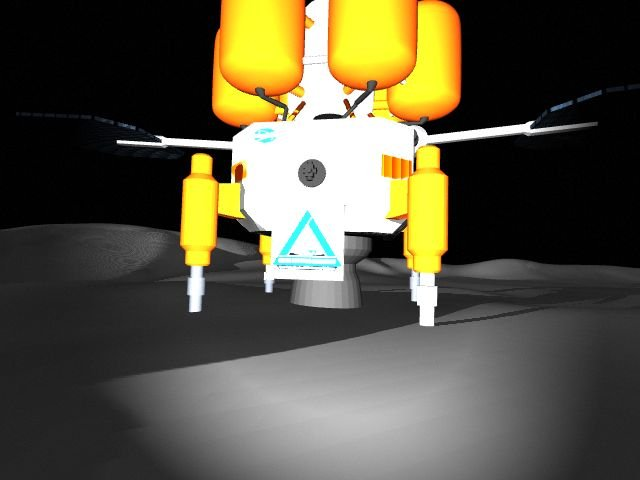basemarker: (270, 209, 341, 271)
